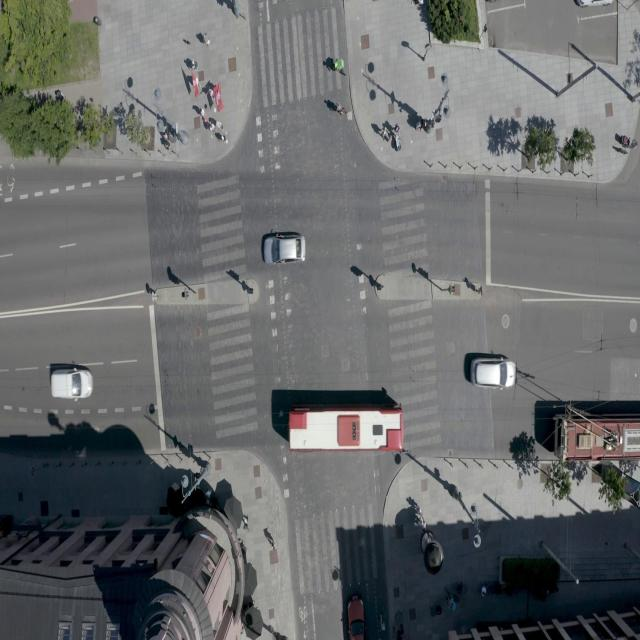Bus: (287, 404, 405, 453)
Car: (470, 356, 518, 392), (262, 232, 306, 267), (576, 0, 615, 10)
Truck: (551, 401, 640, 466)
Van: (51, 366, 93, 403)
